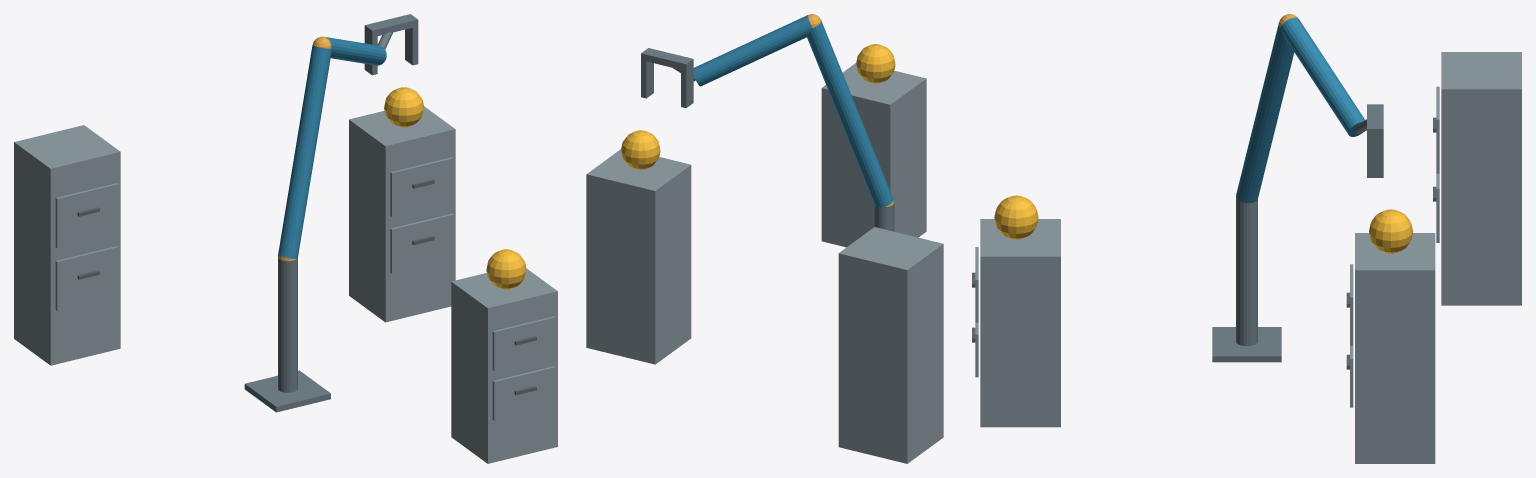
3 views of the same model, side by side, from view 1: azimuth 30°, elevation 25°; view 2: azimuth 150°, elevation 25°; view 3: azimuth 270°, elevation 25° (orthographic). The views are drawn at different scales.
Visible parts, largest first — view 1: cabinet_3 body, cabinet_2 body, cabinet_1 body, moving link 1, cabinet_3 drawer front, cabinet_3 drawer front.001, cabinet_2 drawer front.001, cabinet_2 drawer front, fixed post, cabinet_1 drawer front.001, cabinet_1 drawer front, pedestal (+4 smaller); view 2: cabinet_3 body, cabinet_2 body, cabinet_1 body, moving link 1, moving link 2, released ball_1, ball ball_2, gripper bridge, fixed post, gripper finger -1, gripper finger 1; view 3: cabinet_3 body, cabinet_2 body, cabinet_1 body, moving link 1, fixed post, moving link 2, pedestal, released ball_1, ball ball_2, gripper finger 1, gripper bridge.
Part boxes in pixels (x1=…): cabinet_3 body: x1=14, y1=125, x2=120, y2=365; cabinet_2 body: x1=349, y1=106, x2=455, y2=322; cabinet_1 body: x1=451, y1=268, x2=557, y2=463; moving link 1: x1=278, y1=45, x2=331, y2=258; cabinet_3 drawer front: x1=55, y1=246, x2=118, y2=311; cabinet_3 drawer front.001: x1=55, y1=183, x2=118, y2=248; cabinet_2 drawer front.001: x1=390, y1=157, x2=453, y2=217; cabinet_2 drawer front: x1=390, y1=213, x2=453, y2=273; fixed post: x1=278, y1=258, x2=297, y2=392; cabinet_1 drawer front.001: x1=492, y1=316, x2=555, y2=370; cabinet_1 drawer front: x1=492, y1=366, x2=555, y2=420; pedestal: x1=244, y1=370, x2=330, y2=412; cabinet_3 body: x1=838, y1=227, x2=943, y2=463; cabinet_2 body: x1=586, y1=149, x2=691, y2=364; cabinet_1 body: x1=821, y1=63, x2=926, y2=247; moving link 1: x1=807, y1=20, x2=893, y2=207; moving link 2: x1=693, y1=15, x2=812, y2=86; released ball_1: x1=856, y1=44, x2=895, y2=83; ball ball_2: x1=621, y1=130, x2=660, y2=169; gripper bridge: x1=641, y1=48, x2=693, y2=70; fixed post: x1=874, y1=202, x2=894, y2=231; gripper finger -1: x1=681, y1=66, x2=693, y2=107; gripper finger 1: x1=641, y1=60, x2=653, y2=98; cabinet_3 body: x1=1441, y1=52, x2=1521, y2=305; cabinet_2 body: x1=1355, y1=233, x2=1435, y2=463; cabinet_1 body: x1=980, y1=219, x2=1060, y2=427; moving link 1: x1=1236, y1=22, x2=1294, y2=203; fixed post: x1=1236, y1=198, x2=1257, y2=346; moving link 2: x1=1280, y1=17, x2=1364, y2=136; pedestal: x1=1212, y1=327, x2=1281, y2=362; released ball_1: x1=994, y1=195, x2=1038, y2=239; ball ball_2: x1=1369, y1=209, x2=1413, y2=253; gripper finger 1: x1=1367, y1=136, x2=1383, y2=177; gripper bridge: x1=1367, y1=104, x2=1383, y2=136.
Bounding box in the file's own units: 1.67 × 1.44 × 1.98.
